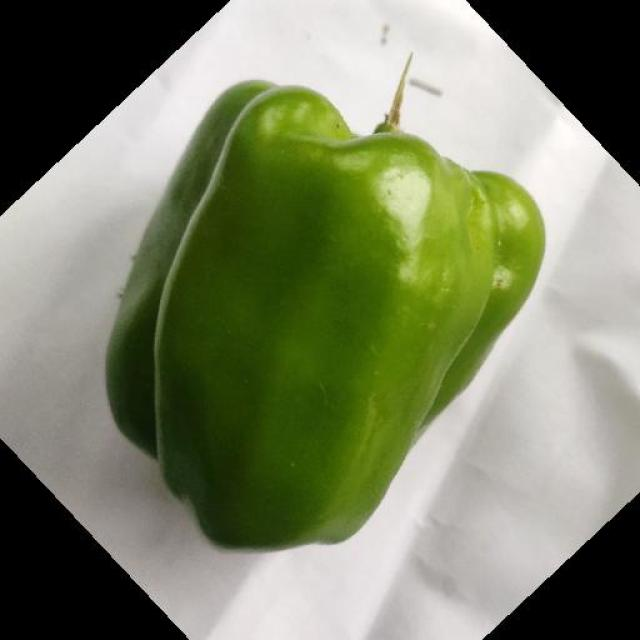Fresh_Capsicum: (149, 91, 436, 528)
